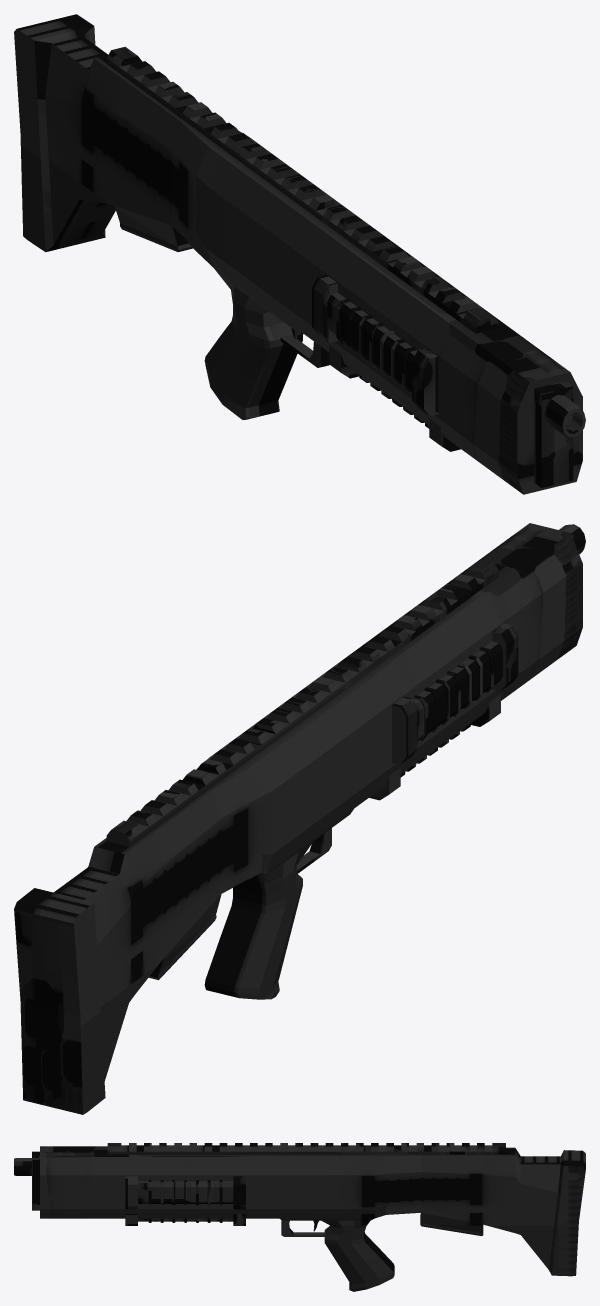
Rendered from easy-weapons-beam-gun.glb.
3 renders of one model, top to bottom at view 1: azimuth 30°, elevation 25°; view 2: azimuth 150°, elevation 25°; view 3: azimuth 270°, elevation 25°, orthographic. The views are drawn at different scales.
Parts seen in each view (by area): view 1: laser_gun; view 2: laser_gun; view 3: laser_gun.
Boxes of the visible parts, bbox=[...] form: laser_gun: bbox=[14, 14, 585, 494]; laser_gun: bbox=[14, 523, 585, 1114]; laser_gun: bbox=[14, 1143, 585, 1291].
Size of the model in its own units: 0.0595 by 0.1596 by 0.58.
Materials: 1 (1 with a texture image).
